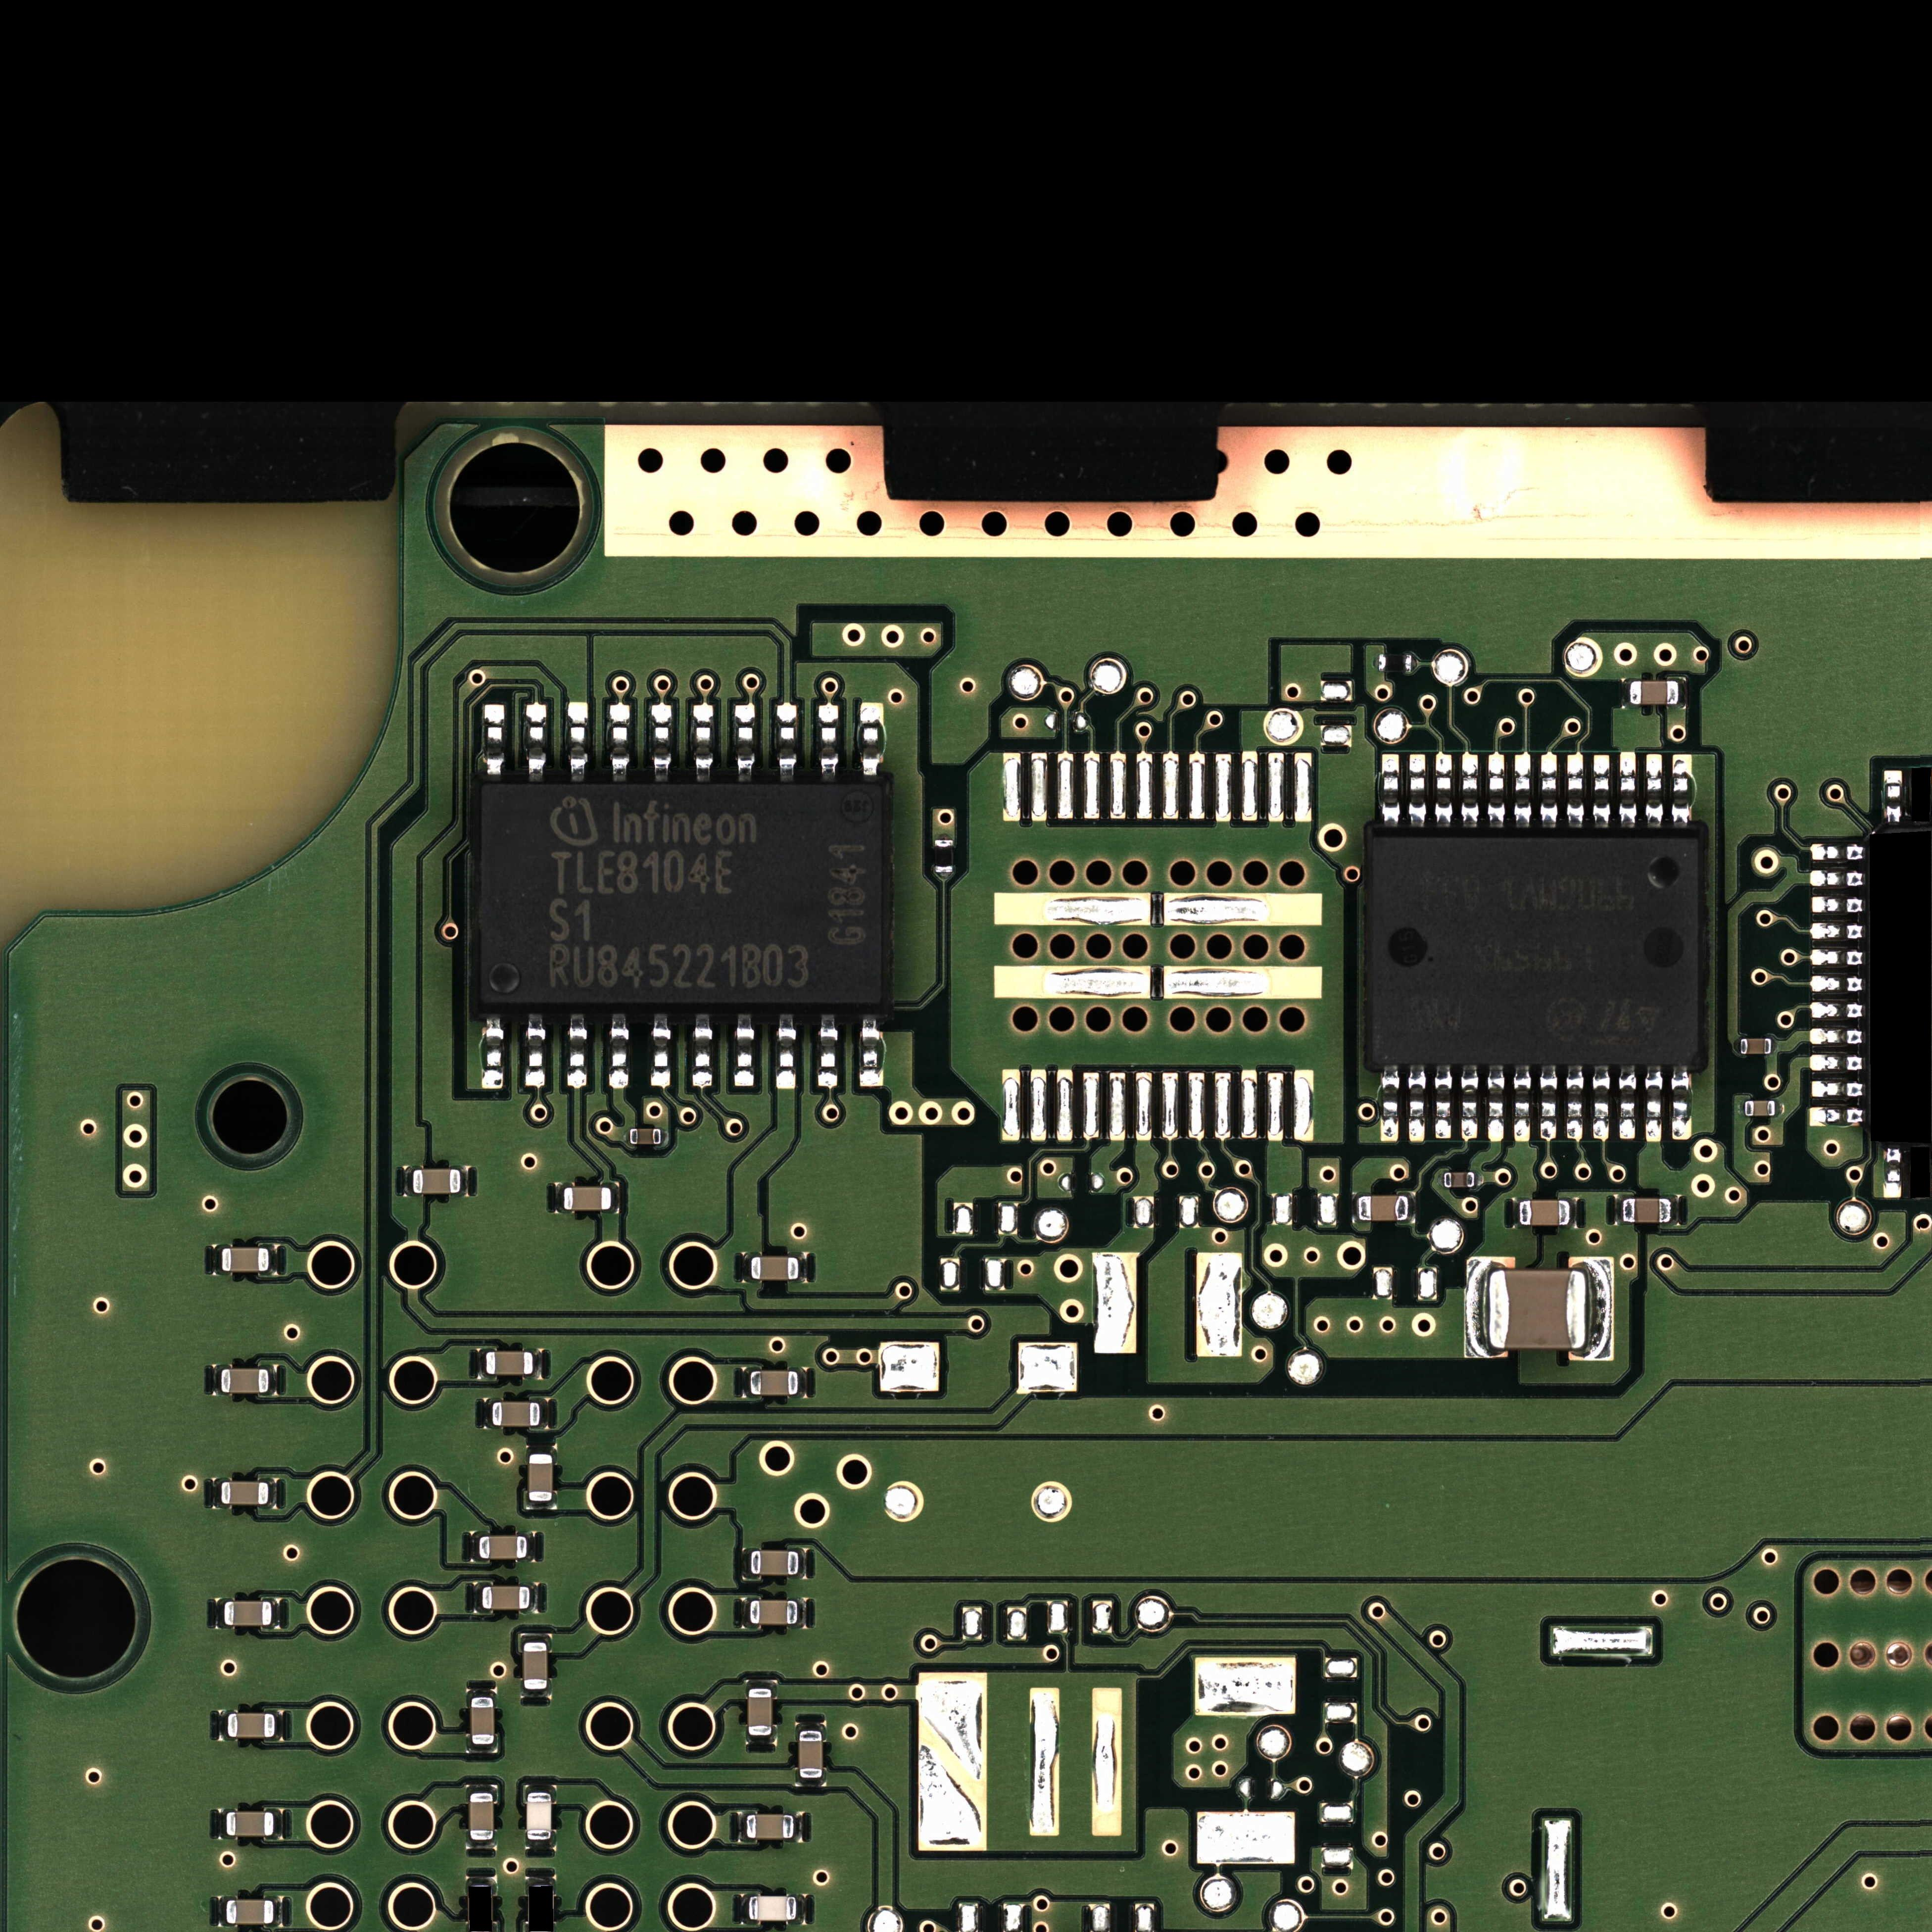Package: (479, 784, 885, 1005), (1373, 837, 1700, 1065), (1488, 1270, 1587, 1352), (1520, 1200, 1569, 1226), (747, 1813, 794, 1840), (750, 1550, 798, 1576), (412, 1169, 462, 1194), (1629, 681, 1679, 706), (1359, 1196, 1408, 1221), (1622, 1198, 1672, 1223), (226, 1900, 274, 1925), (226, 1812, 274, 1836), (798, 1730, 823, 1778), (750, 1599, 798, 1624), (750, 1371, 798, 1396), (492, 1401, 540, 1426), (225, 1601, 272, 1626), (481, 1585, 529, 1610), (226, 1713, 274, 1737), (221, 1481, 269, 1506), (748, 1897, 796, 1921), (527, 1792, 552, 1840), (221, 1247, 269, 1272), (750, 1256, 798, 1281), (221, 1369, 269, 1394), (529, 1454, 554, 1500), (469, 1794, 494, 1840), (479, 1536, 527, 1559), (524, 1642, 547, 1690), (564, 1187, 612, 1210), (487, 1352, 533, 1375), (471, 1698, 494, 1744), (748, 1690, 771, 1736), (934, 840, 954, 872), (1378, 655, 1412, 672), (1444, 1171, 1476, 1187), (630, 1129, 660, 1145), (1741, 1039, 1771, 1054), (1744, 1100, 1775, 1116)
Solder: (1587, 1258, 1614, 1361), (1465, 1258, 1486, 1359), (860, 1014, 885, 1086), (860, 702, 883, 780), (481, 1012, 504, 1090), (483, 704, 506, 780), (734, 704, 755, 782), (651, 704, 672, 782), (525, 1012, 547, 1088), (609, 1012, 630, 1088), (734, 1012, 755, 1088), (817, 1014, 839, 1088), (692, 1014, 713, 1088), (568, 702, 587, 782), (527, 702, 547, 782), (777, 702, 796, 782), (610, 702, 630, 780), (819, 704, 839, 782), (694, 704, 713, 782), (1380, 1065, 1399, 1143), (651, 1012, 671, 1088), (777, 1014, 796, 1090), (568, 1012, 587, 1088), (1672, 1065, 1691, 1141), (1460, 1065, 1479, 1141), (1380, 754, 1399, 828), (1672, 754, 1691, 828), (1408, 1065, 1426, 1143), (1539, 752, 1557, 830), (1619, 752, 1637, 830), (1513, 1065, 1530, 1143), (1488, 1065, 1506, 1143), (1645, 1065, 1663, 1143), (1435, 752, 1453, 828), (1435, 1063, 1453, 1139), (1461, 752, 1479, 828), (1488, 752, 1506, 828), (1645, 754, 1663, 830), (1592, 1065, 1610, 1141), (1566, 1065, 1583, 1141), (1619, 1065, 1637, 1141), (1539, 1065, 1557, 1141), (1408, 754, 1426, 828), (1592, 754, 1610, 828), (1566, 754, 1583, 828), (1514, 752, 1530, 828), (1812, 1106, 1865, 1127), (1812, 844, 1865, 862), (1884, 770, 1902, 823), (1884, 1146, 1902, 1198), (1812, 1001, 1863, 1019), (1812, 1028, 1863, 1046), (1812, 948, 1863, 966), (1812, 975, 1863, 993), (1810, 1054, 1863, 1070), (1812, 1081, 1863, 1097), (1812, 897, 1863, 913), (1812, 924, 1863, 939), (1812, 870, 1863, 886), (269, 1244, 280, 1276), (211, 1477, 221, 1509), (540, 1398, 550, 1430), (465, 1875, 497, 1886), (525, 1875, 557, 1886), (211, 1366, 221, 1396), (216, 1810, 226, 1840), (469, 1532, 479, 1562), (533, 1350, 543, 1380), (269, 1364, 278, 1396), (460, 1166, 469, 1198), (465, 1783, 497, 1792), (465, 1840, 497, 1849), (472, 1582, 481, 1614), (274, 1808, 283, 1840), (276, 1709, 285, 1741), (272, 1598, 281, 1629), (483, 1398, 492, 1430), (476, 1348, 485, 1380), (525, 1445, 557, 1454), (794, 1778, 826, 1787), (525, 1502, 557, 1511), (794, 1812, 803, 1844), (741, 1548, 750, 1580), (520, 1690, 552, 1698), (403, 1166, 412, 1196), (212, 1246, 221, 1276), (467, 1744, 497, 1753), (467, 1688, 497, 1697), (218, 1711, 226, 1741), (274, 1897, 283, 1927), (216, 1897, 225, 1927), (269, 1479, 278, 1509), (214, 1599, 223, 1629), (798, 1368, 807, 1398), (520, 1633, 550, 1642), (738, 1812, 747, 1842), (747, 1736, 777, 1744), (796, 1895, 805, 1925), (796, 1721, 826, 1730), (525, 1840, 556, 1849), (612, 1182, 619, 1214), (556, 1182, 563, 1214), (745, 1681, 777, 1688), (800, 1548, 807, 1580), (524, 1785, 556, 1792), (800, 1253, 807, 1283), (743, 1368, 750, 1398), (743, 1253, 750, 1283), (798, 1598, 805, 1628), (743, 1598, 750, 1628), (1408, 1192, 1415, 1223), (1679, 678, 1686, 708), (1513, 1198, 1520, 1228), (1569, 1198, 1576, 1228), (527, 1532, 534, 1560), (531, 1583, 538, 1612), (741, 1895, 748, 1923), (1622, 679, 1629, 708), (1615, 1196, 1622, 1224), (1352, 1194, 1359, 1221), (1775, 1099, 1783, 1116), (1672, 1196, 1677, 1224), (660, 1129, 669, 1145), (1476, 1171, 1483, 1189), (1437, 1171, 1444, 1189), (623, 1129, 630, 1145), (1412, 653, 1417, 674), (1732, 1039, 1739, 1054), (1737, 1100, 1744, 1116), (934, 833, 954, 839), (934, 874, 954, 879), (1373, 653, 1378, 672), (1773, 1037, 1778, 1054)
